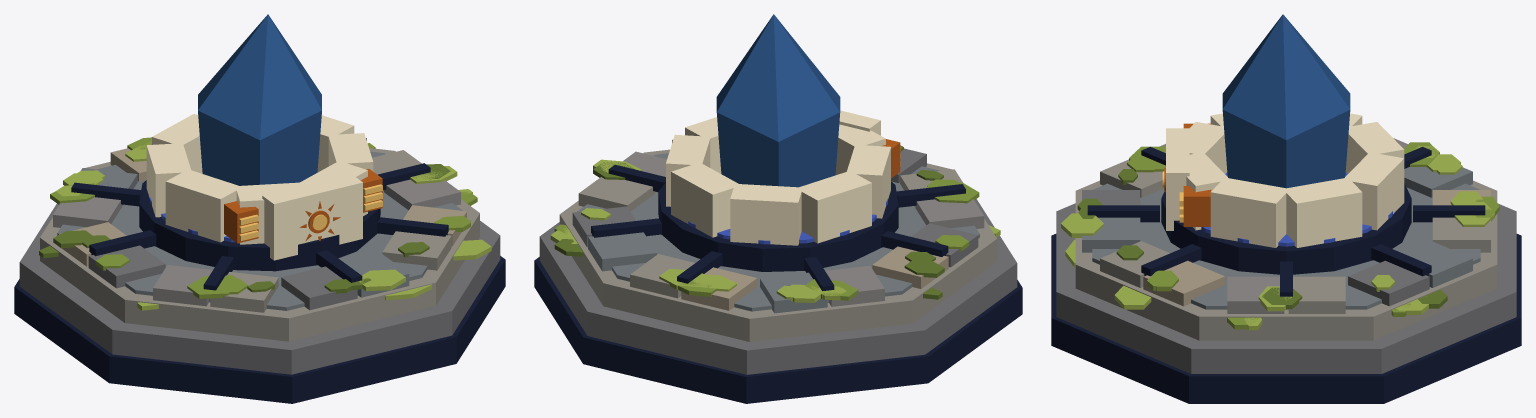
File: santuario.glb
3 views of the same model, side by side, from view 1: azimuth 30°, elevation 25°; view 2: azimuth 150°, elevation 25°; view 3: azimuth 270°, elevation 25° (orthographic). The views are drawn at different scales.
Parts seen in each view (by area): view 1: Plataforma octogonal.001, Cristal azul, Plataforma octogonal, Plataforma octogonal.002, Placa del santuario, Junta inferior, Plataforma octogonal.003, Carcasa de marfil.004, Carcasa de marfil.003, Losa tallada.012, Losa tallada.009, Losa tallada (+27 smaller); view 2: Plataforma octogonal.001, Cristal azul, Plataforma octogonal, Plataforma octogonal.002, Junta inferior, Plataforma octogonal.003, Carcasa de marfil.002, Carcasa de marfil.003, Carcasa de marfil.001, Carcasa de marfil.004, Losa tallada.003, Losa tallada.001 (+27 smaller); view 3: Plataforma octogonal.001, Cristal azul, Plataforma octogonal, Plataforma octogonal.002, Junta inferior, Plataforma octogonal.003, Carcasa de marfil.007, Carcasa de marfil, Carcasa de marfil.001, Losa tallada.002, Placa del santuario, Losa tallada.001 (+26 smaller).
Boxes of the visible parts, x1,y1,x2,y2 form: Plataforma octogonal.001: [19, 203, 500, 374]; Cristal azul: [198, 14, 321, 185]; Plataforma octogonal: [14, 256, 505, 403]; Plataforma octogonal.002: [40, 148, 479, 341]; Placa del santuario: [262, 174, 362, 260]; Junta inferior: [139, 180, 380, 271]; Plataforma octogonal.003: [57, 151, 462, 310]; Carcasa de marfil.004: [165, 169, 242, 242]; Carcasa de marfil.003: [146, 143, 190, 217]; Losa tallada.012: [281, 266, 357, 310]; Losa tallada.009: [88, 245, 165, 288]; Losa tallada: [384, 179, 460, 210]; Plataforma octogonal.001: [539, 199, 1017, 374]; Cristal azul: [716, 14, 840, 187]; Plataforma octogonal: [534, 257, 1022, 403]; Plataforma octogonal.002: [559, 149, 997, 341]; Junta inferior: [658, 181, 898, 271]; Plataforma octogonal.003: [577, 153, 979, 311]; Carcasa de marfil.002: [730, 183, 802, 245]; Carcasa de marfil.003: [798, 171, 871, 243]; Carcasa de marfil.001: [671, 163, 740, 237]; Carcasa de marfil.004: [847, 145, 890, 218]; Losa tallada.003: [588, 232, 656, 271]; Losa tallada.001: [578, 177, 655, 211]; Plataforma octogonal.001: [1056, 203, 1516, 373]; Cristal azul: [1222, 14, 1350, 188]; Plataforma octogonal: [1051, 234, 1521, 403]; Plataforma octogonal.002: [1075, 180, 1497, 340]; Junta inferior: [1161, 183, 1411, 274]; Plataforma octogonal.003: [1092, 183, 1480, 309]; Carcasa de marfil.007: [1210, 178, 1289, 247]; Carcasa de marfil: [1286, 177, 1362, 247]; Carcasa de marfil.001: [1343, 154, 1404, 230]; Losa tallada.002: [1348, 260, 1429, 306]; Placa del santuario: [1166, 128, 1189, 230]; Losa tallada.001: [1288, 276, 1345, 313].
Bounding box in the file's own units: 3.38 × 2.33 × 3.38.
